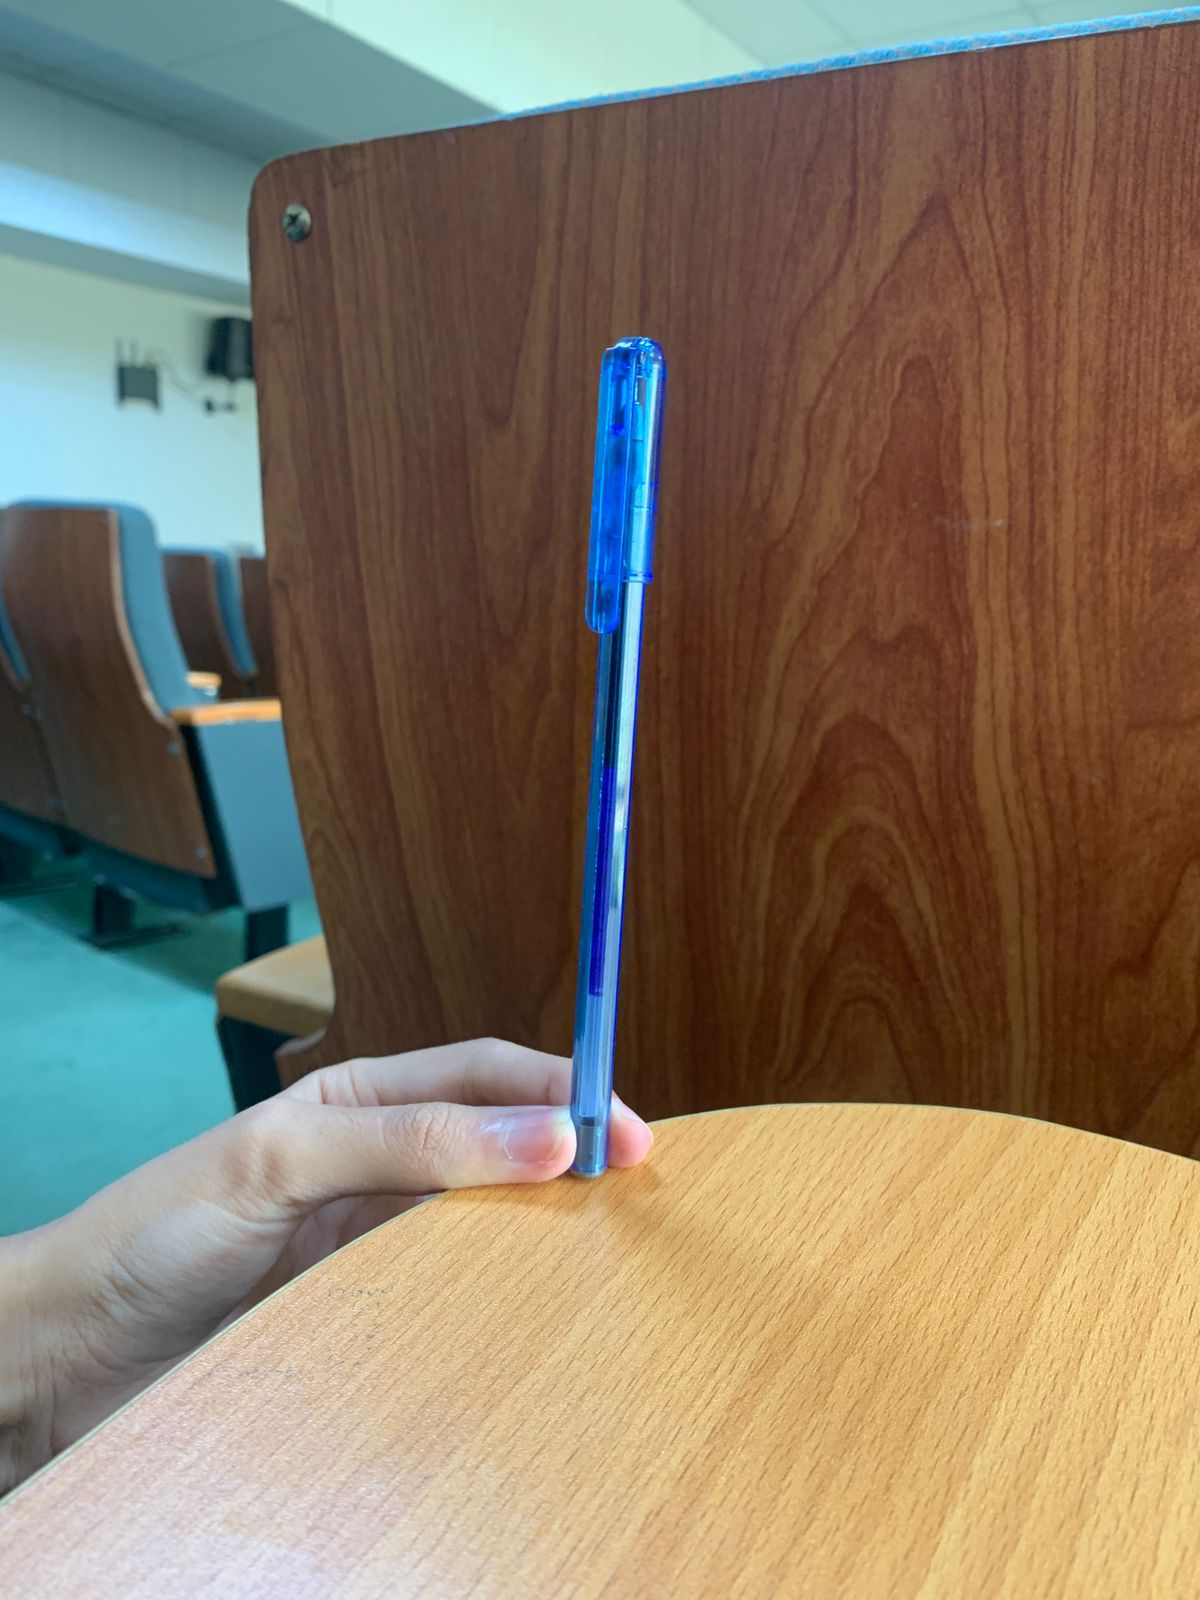pen: (465, 271, 744, 1317)
